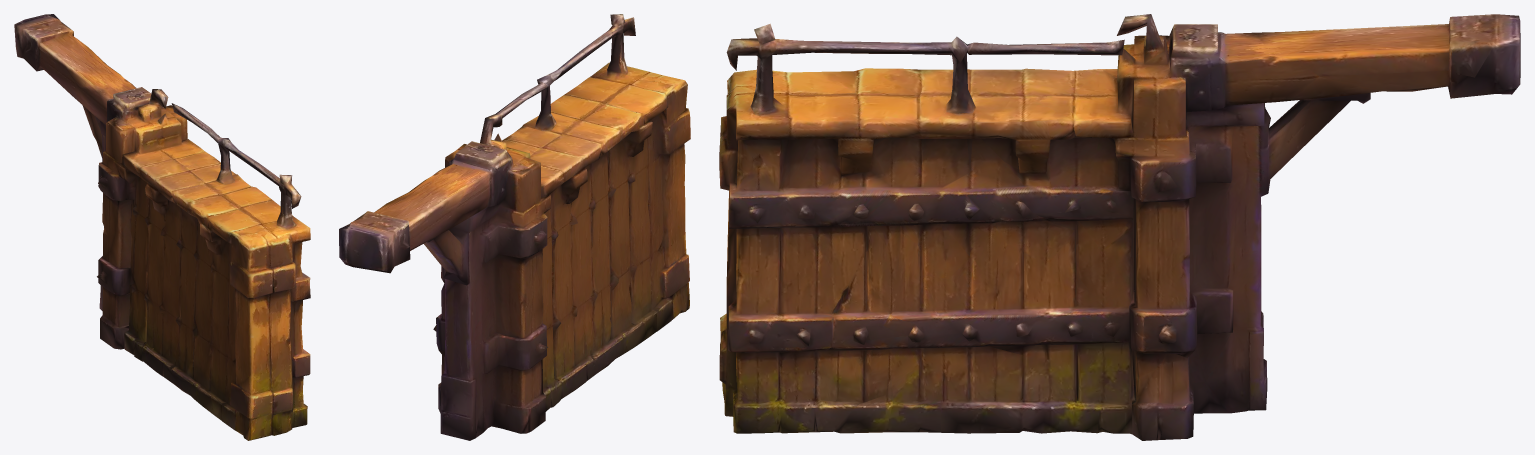
The model's file is model-prop-lock-gate-01.glb.
3 views of the same model, side by side, from view 1: azimuth 30°, elevation 25°; view 2: azimuth 150°, elevation 25°; view 3: azimuth 270°, elevation 25° (orthographic). The views are drawn at different scales.
Visible parts, largest first — view 1: tripo_node_3078f09a-e64a-4e6f-8c73-d17b4139ffdf; view 2: tripo_node_3078f09a-e64a-4e6f-8c73-d17b4139ffdf; view 3: tripo_node_3078f09a-e64a-4e6f-8c73-d17b4139ffdf.
Boxes of the visible parts, <box> form: tripo_node_3078f09a-e64a-4e6f-8c73-d17b4139ffdf: <box>14,14,310,440</box>; tripo_node_3078f09a-e64a-4e6f-8c73-d17b4139ffdf: <box>339,14,690,440</box>; tripo_node_3078f09a-e64a-4e6f-8c73-d17b4139ffdf: <box>719,14,1520,440</box>.
Bounding box in the file's own units: 0.4673 × 1.2 × 2.18.
Materials: 1 (1 with a texture image).
